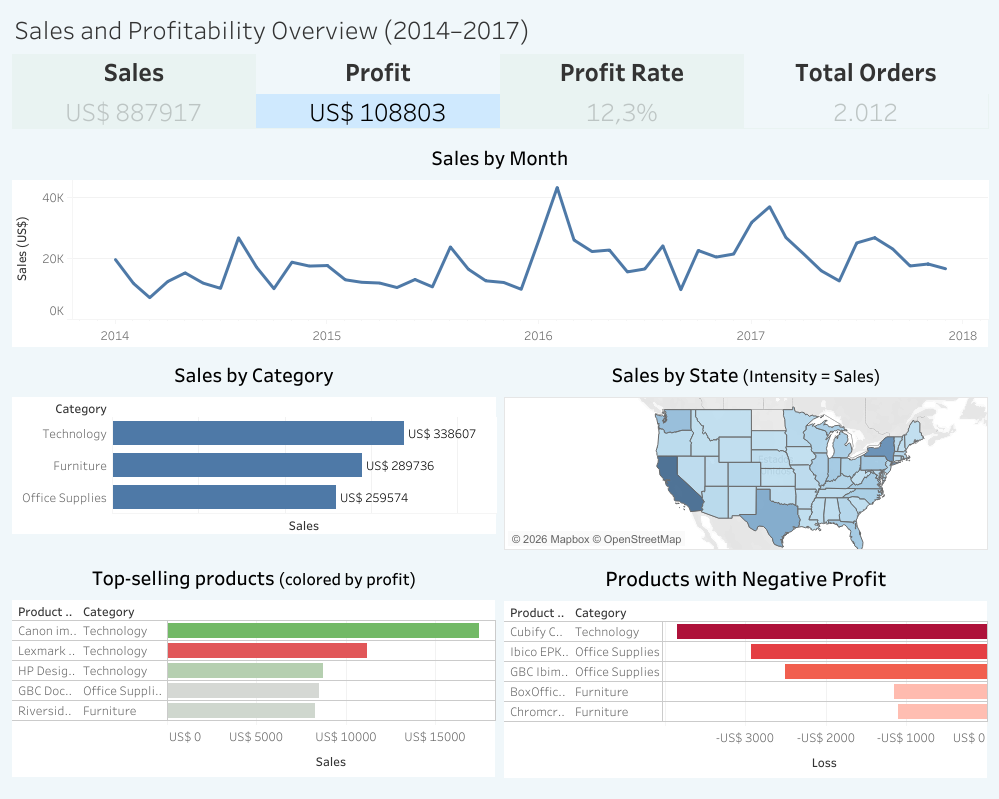

The page's visual inventory and layout, read from the dashboard file:
{"tool":"tableau","page":{"name":"Dashboard","canvas":[1000,800],"ordinal":0},"visuals":[{"type":"title","box":[8,8,984,42]},{"type":"worksheet","title":"KPIs","mark":"Automatic","box":[8,50,869,84]},{"type":"filter","title":"Category Sales","param":"[federated.1l545oa0yb3mph181y1ch1p97uit].[none:Category:nk]","box":[877,50,115,67.5]},{"type":"filter","title":"Category Sales","param":"[federated.1l545oa0yb3mph181y1ch1p97uit].[none:Region:nk]","box":[877,117.5,115,82.5]},{"type":"worksheet","title":"Month Sales","mark":"Automatic","rows":["Sales"],"cols":["Order Date"],"box":[8,134,869,217]},{"type":"filter","title":"Month Sales","param":"[federated.1l545oa0yb3mph181y1ch1p97uit].[yr:Order Date:ok]","box":[877,200,115,66]},{"type":"filter","title":"Category Sales","param":"[federated.1l545oa0yb3mph181y1ch1p97uit].[mn:Order Date:ok]","box":[877,266,115,85]},{"type":"worksheet","title":"Category Sales","mark":"Bar","rows":["Category"],"cols":["Sales"],"box":[8,351,492,203.5]},{"type":"worksheet","title":"Region Sales","mark":"Multipolygon","box":[500,351,492,203.5]},{"type":"worksheet","title":"Top Products","mark":"Automatic","rows":["Product Name","Category"],"cols":["Sales"],"box":[8,554.5,492,237.5]},{"type":"worksheet","title":"Loss-making products","mark":"Automatic","rows":["Product Name","Category"],"cols":["Profit"],"box":[500,554.5,492,237.5]}]}

Visuals, with their boxes in screenshot pixels (x1, y1, x2, y2), scaled from the page's 1000x800 canvas onto the 999x799 screenshot:
title: (left=8, top=8, right=991, bottom=50)
"KPIs" worksheet: (left=8, top=50, right=876, bottom=134)
"Category Sales" filter: (left=876, top=50, right=991, bottom=117)
"Category Sales" filter: (left=876, top=117, right=991, bottom=200)
"Month Sales" worksheet: (left=8, top=134, right=876, bottom=351)
"Month Sales" filter: (left=876, top=200, right=991, bottom=266)
"Category Sales" filter: (left=876, top=266, right=991, bottom=351)
"Category Sales" worksheet (Bar marks): (left=8, top=351, right=500, bottom=554)
"Region Sales" worksheet (Multipolygon marks): (left=500, top=351, right=991, bottom=554)
"Top Products" worksheet: (left=8, top=554, right=500, bottom=791)
"Loss-making products" worksheet: (left=500, top=554, right=991, bottom=791)
